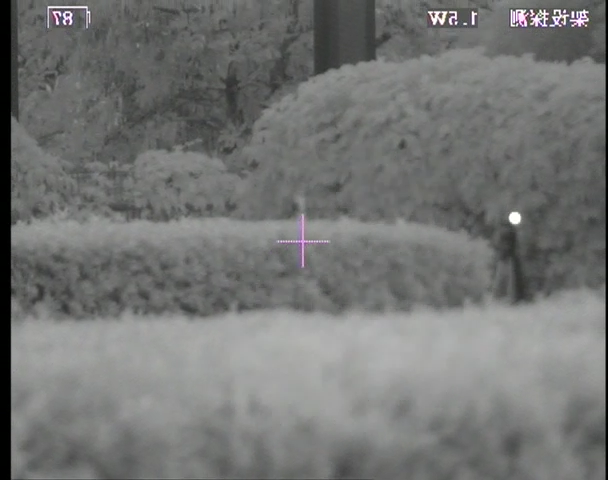my: (507, 211, 522, 227)
